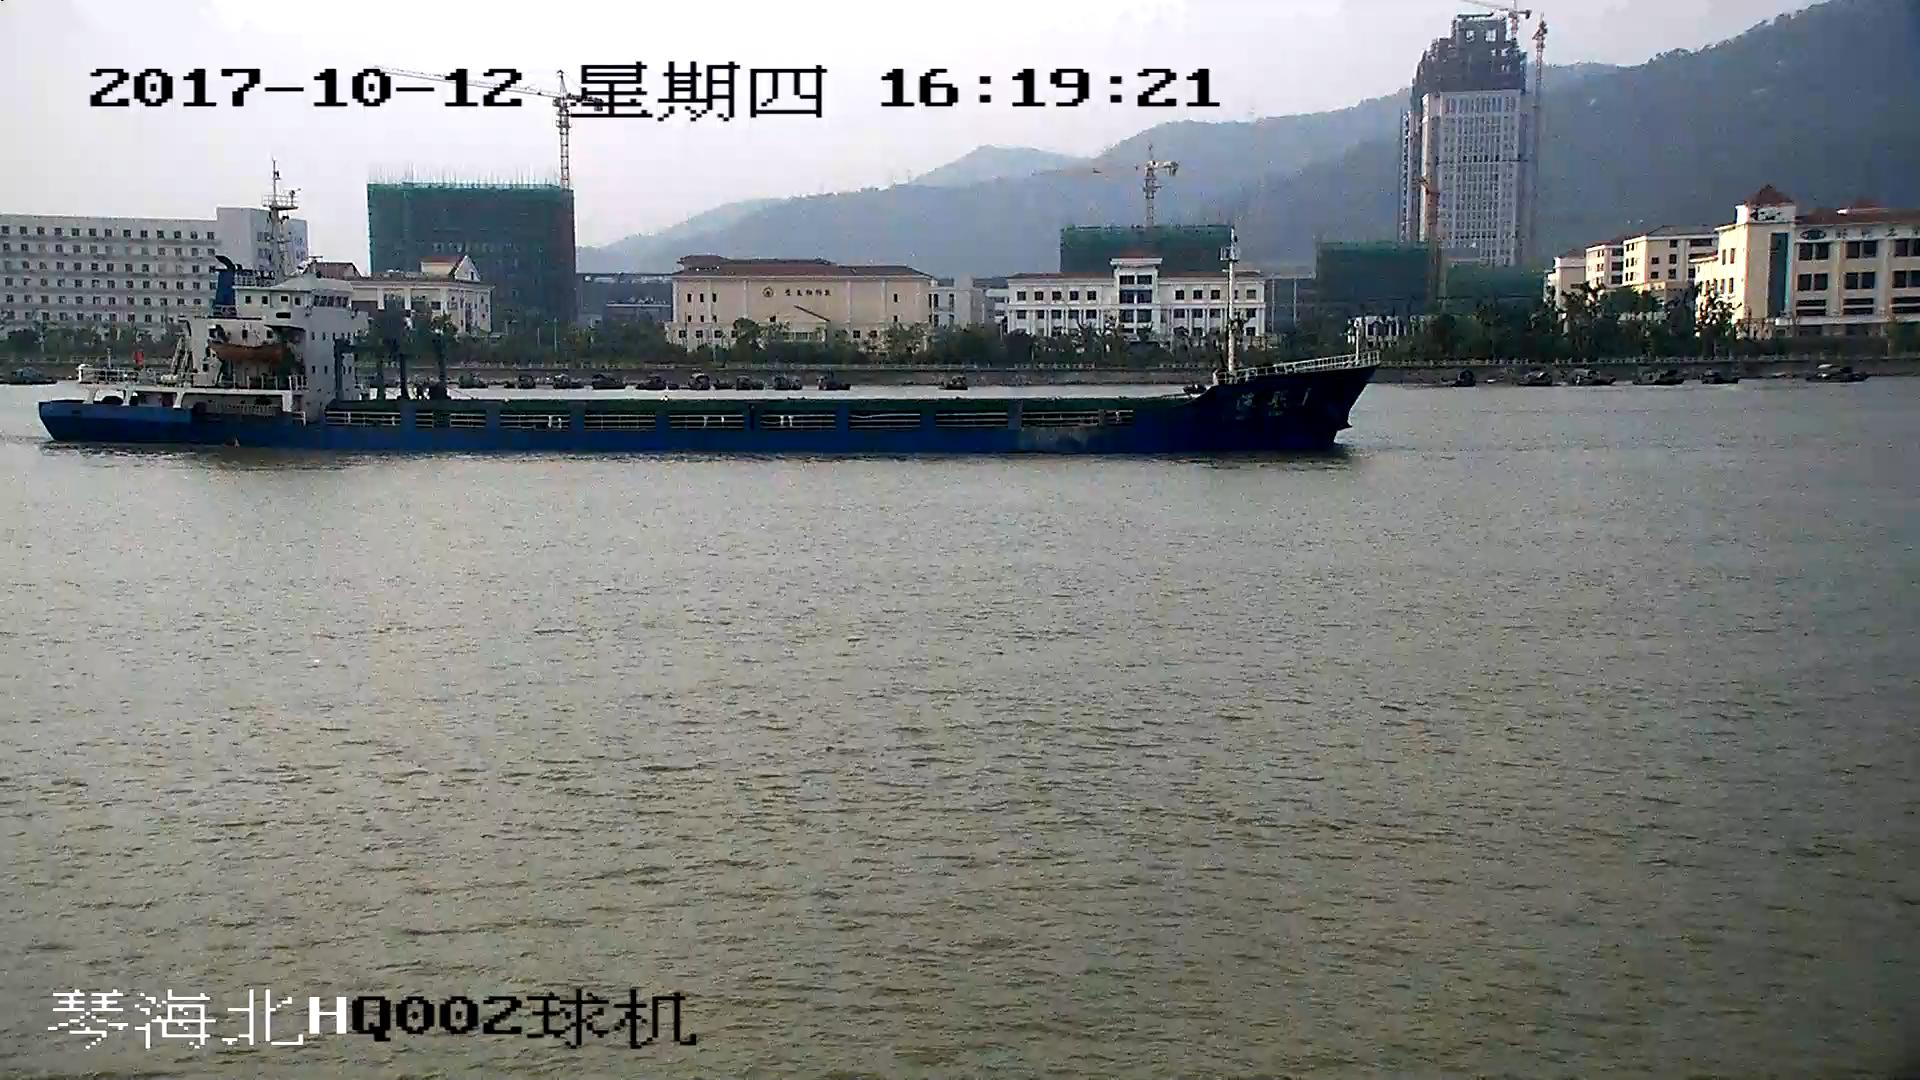general cargo ship: (39, 182, 1366, 459)
